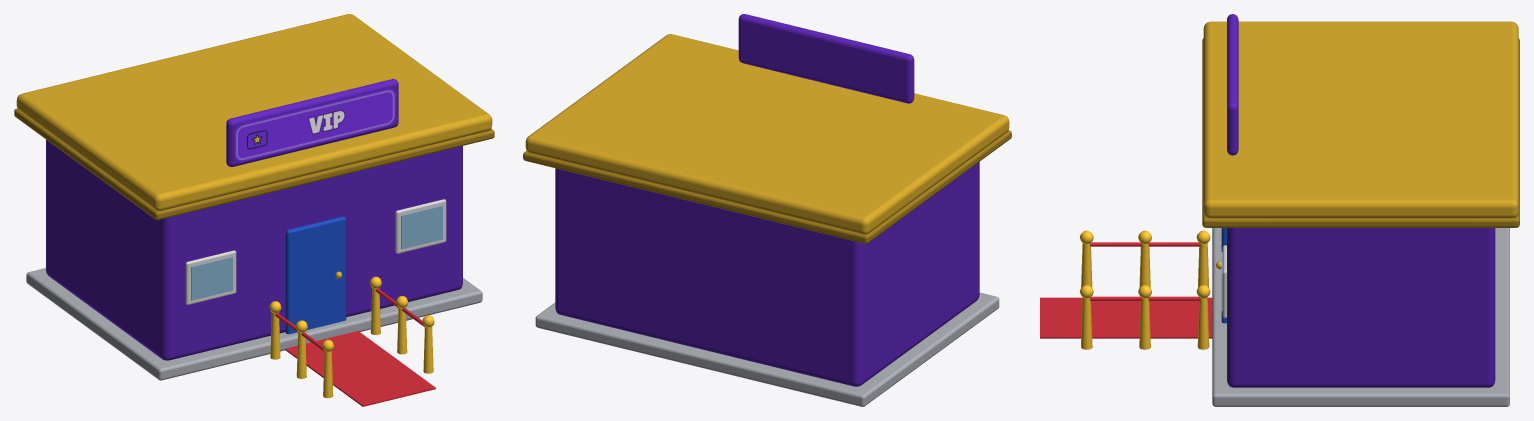
The model's file is vip_lounge.glb.
3 renders of one model, left to right at view 1: azimuth 30°, elevation 25°; view 2: azimuth 150°, elevation 25°; view 3: azimuth 270°, elevation 25°, orthographic. The views are drawn at different scales.
Visible parts, largest first — view 1: VipLounge; view 2: VipLounge; view 3: VipLounge.
Boxes of the visible parts, x1,y1,x2,y2 form: VipLounge: [14, 14, 494, 406]; VipLounge: [523, 14, 1011, 406]; VipLounge: [1040, 14, 1519, 406].
Bounding box in the file's own units: 7.44 × 4.95 × 8.22.
4 materials, 1 textured.
